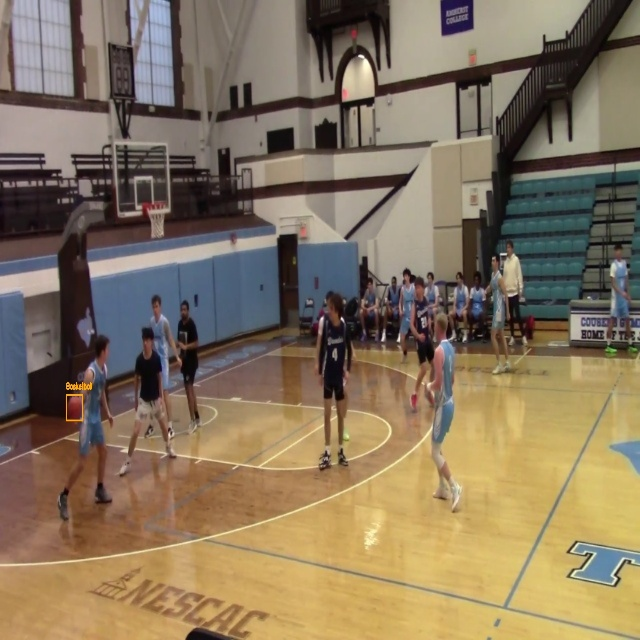Basketball: (66, 395, 83, 421)
